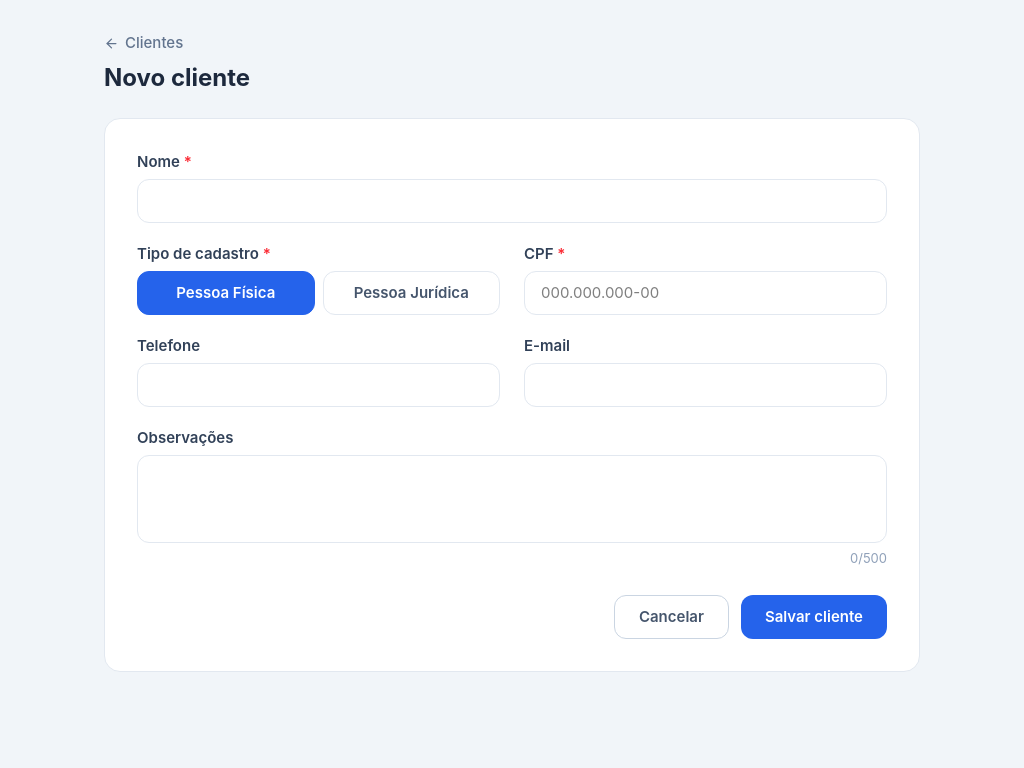
cadastro de cliente › pessoa jurídica exige CNPJ válido
Click the button "Pessoa Jurídica" at (411, 293), box [322,271,500,315]
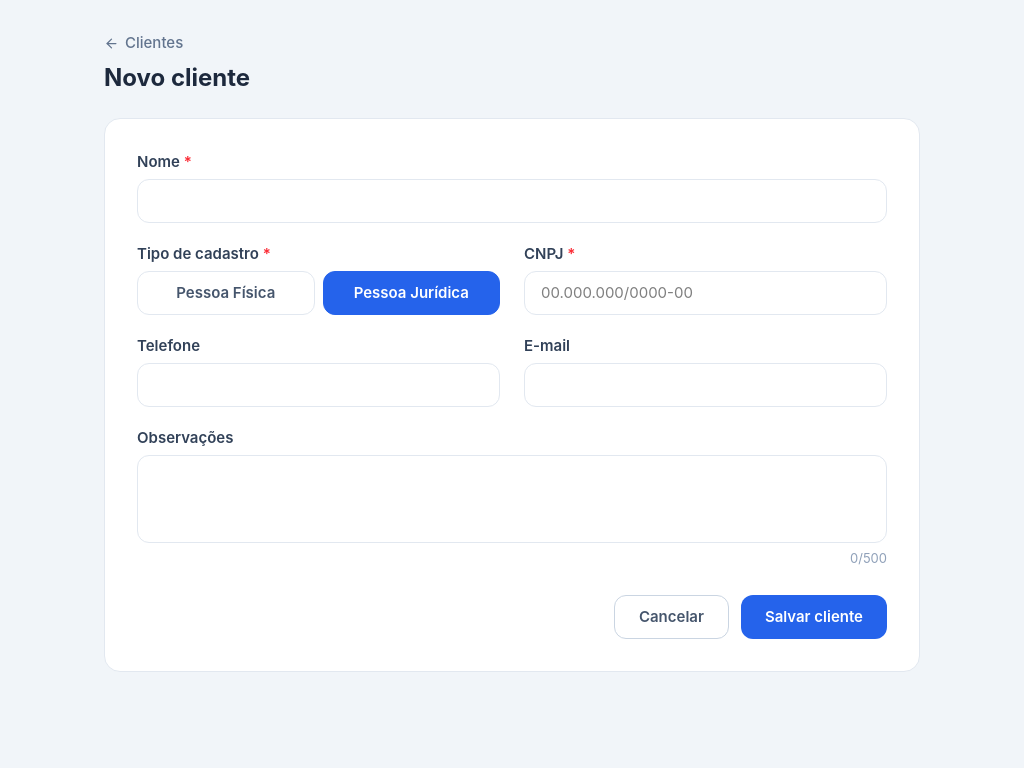
Type "Bruno Ltda" into the field below "Nome" at (512, 201), box [137,179,887,223]
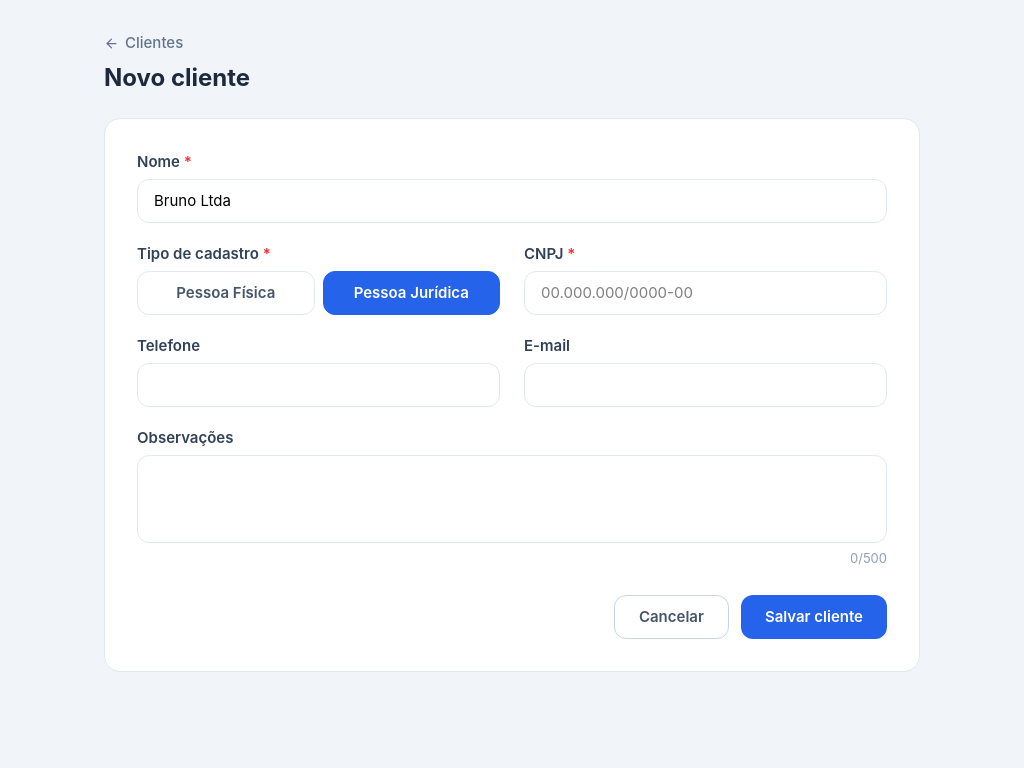
Type "54742524000188" into the field with placeholder "00.000.000/0000-00" at (706, 293), box [524,271,887,315]
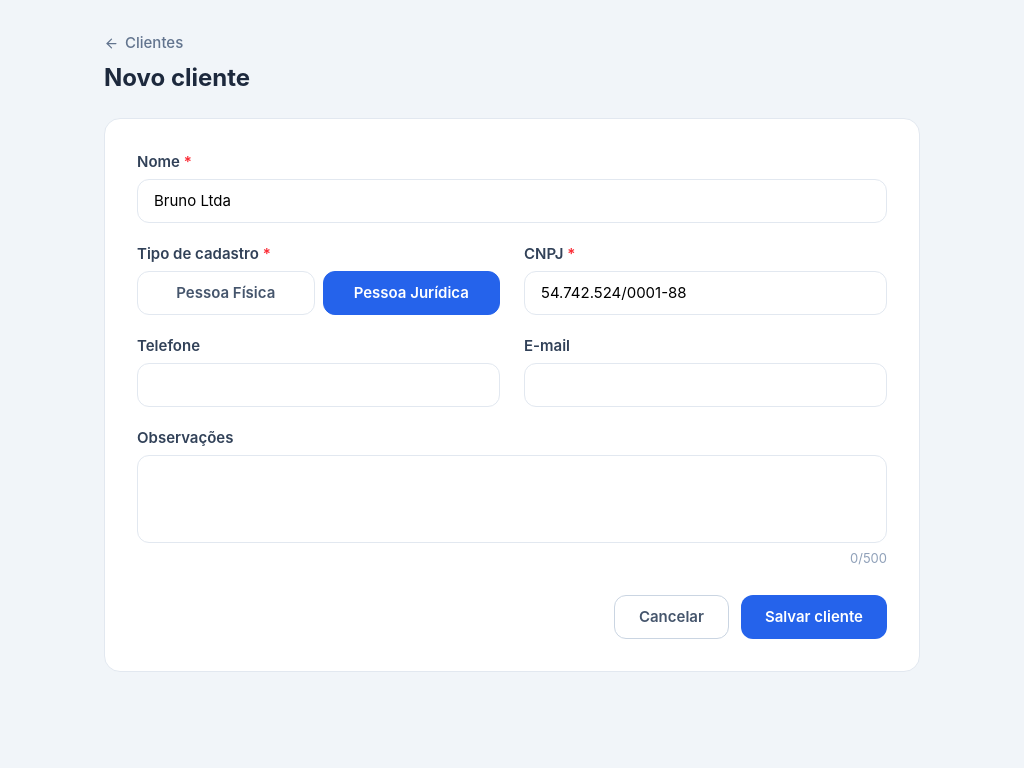
Click the button "Salvar cliente" at (814, 617), box [741,595,887,639]
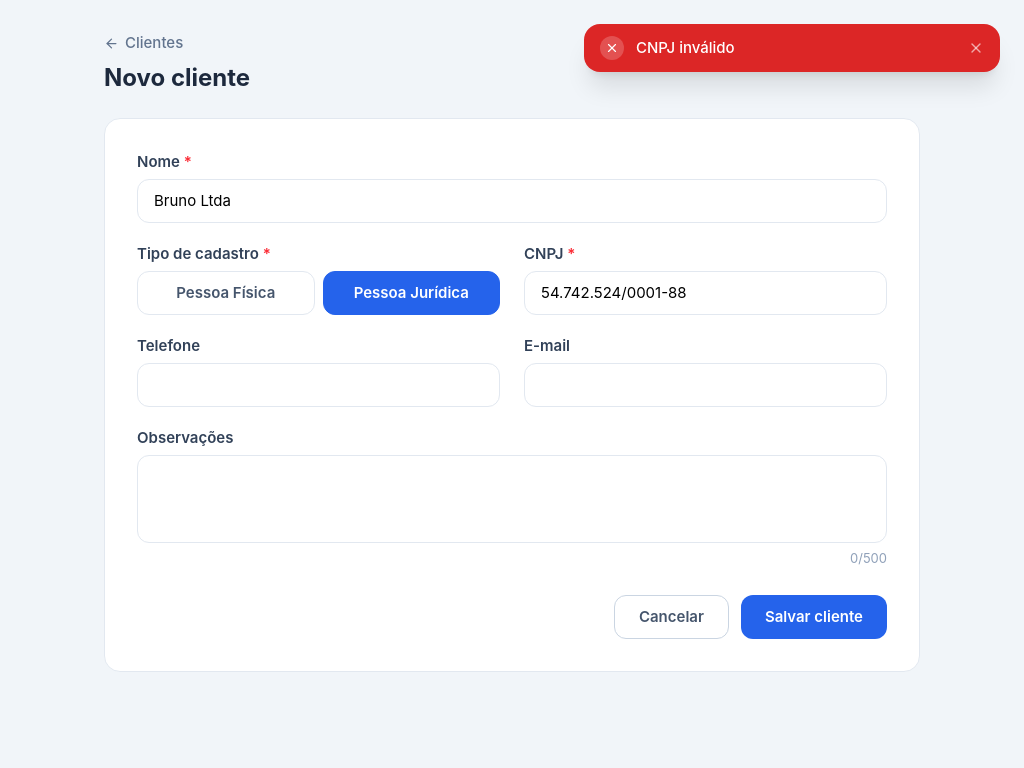
Result: the text "CNPJ inválido" is shown at [636,38,735,57]
